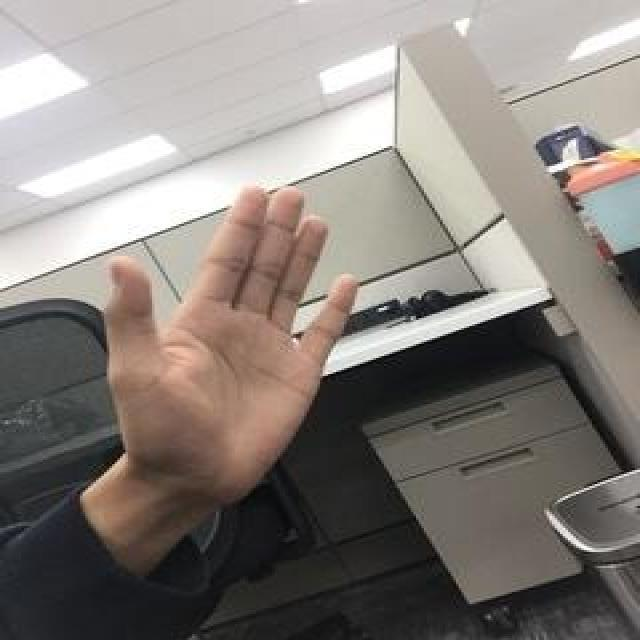no-gloves: (98, 182, 360, 502)
